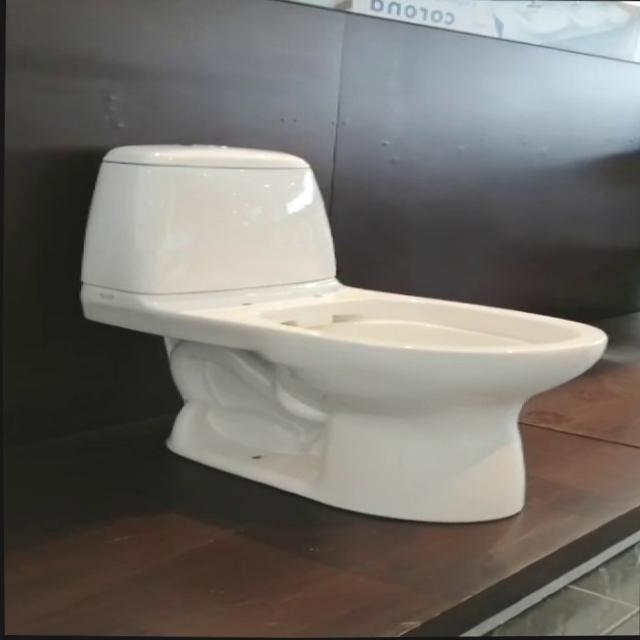toilet: (73, 137, 614, 529)
